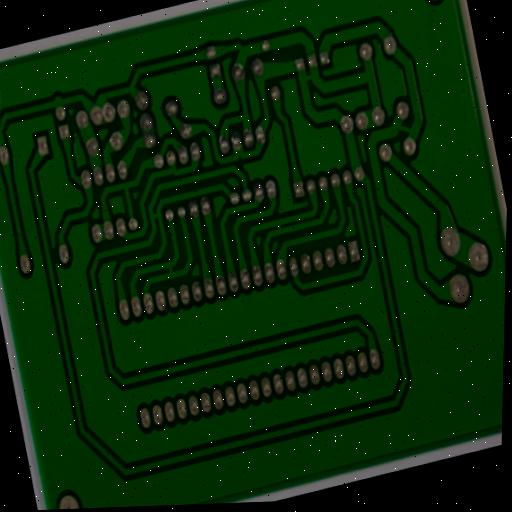short_circuit: (391, 113, 422, 148), (160, 254, 182, 282), (298, 65, 320, 89), (145, 203, 166, 228), (270, 213, 290, 239)
